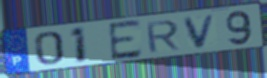0: (32, 31, 67, 66)
1: (69, 26, 90, 65)
9: (225, 9, 254, 47)
E: (106, 18, 144, 63)
R: (144, 19, 182, 55)
V: (182, 12, 218, 50)
